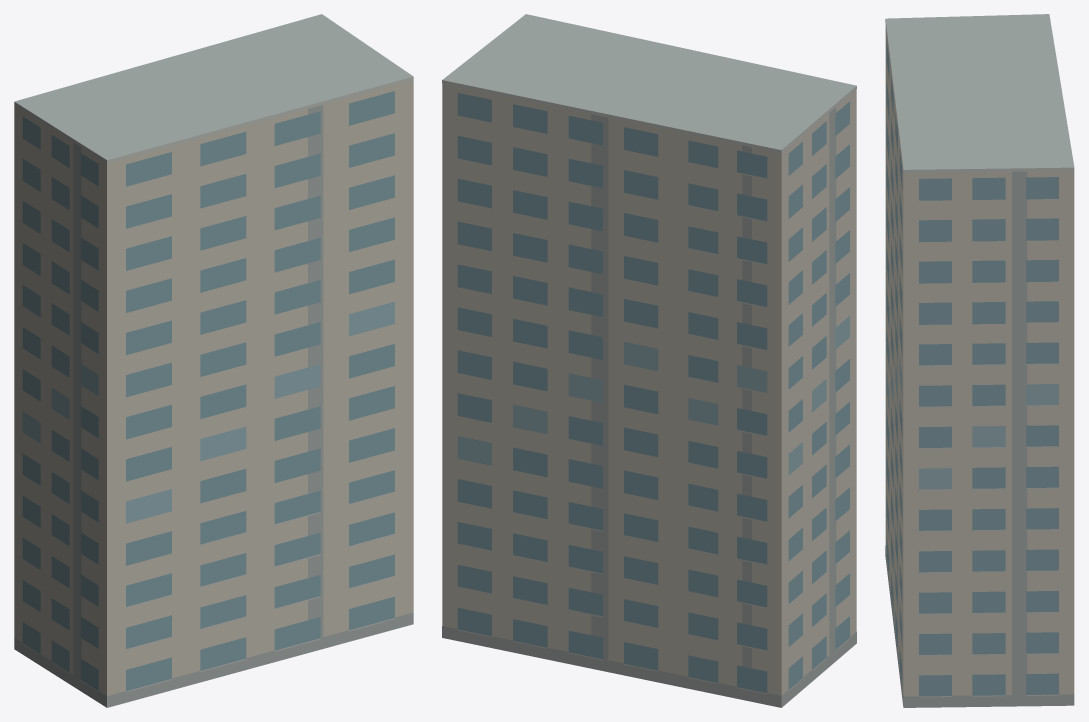
File: residential-8081ce4d-47bb-47a8-9148-152ed6c42ba5.glb
3 renders of one model, left to right at view 1: azimuth 30°, elevation 25°; view 2: azimuth 150°, elevation 25°; view 3: azimuth 270°, elevation 25°, orthographic. The views are drawn at different scales.
Visible parts, largest first — view 1: residential-8081ce4d-47bb-47a8-9148-152ed6c42ba5.tmp; view 2: residential-8081ce4d-47bb-47a8-9148-152ed6c42ba5.tmp; view 3: residential-8081ce4d-47bb-47a8-9148-152ed6c42ba5.tmp.
Boxes of the visible parts, <box> form: residential-8081ce4d-47bb-47a8-9148-152ed6c42ba5.tmp: <box>14,14,413,707</box>; residential-8081ce4d-47bb-47a8-9148-152ed6c42ba5.tmp: <box>442,14,856,707</box>; residential-8081ce4d-47bb-47a8-9148-152ed6c42ba5.tmp: <box>885,14,1074,707</box>.
Bounding box in the file's own units: 24.24 × 39 × 12.42.
